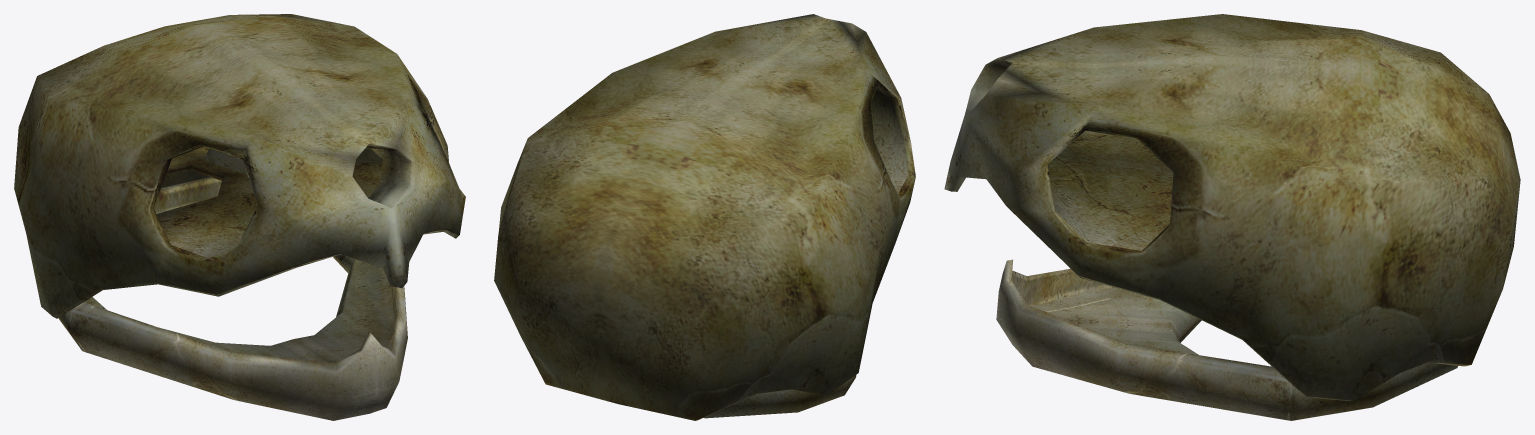
The model's file is bone_turtle_head00.fbx.
The picture shows the model from 3 angles, left to right: view 1: azimuth 30°, elevation 25°; view 2: azimuth 150°, elevation 25°; view 3: azimuth 270°, elevation 25°; orthographic projection. The views are drawn at different scales.
Visible parts, largest first — view 1: bone_turtle_head00; view 2: bone_turtle_head00; view 3: bone_turtle_head00.
Boxes of the visible parts, box(x1,y1,x2,y2) form: bone_turtle_head00: box(14, 14, 465, 420); bone_turtle_head00: box(494, 14, 915, 420); bone_turtle_head00: box(944, 14, 1520, 420).
Bounding box in the file's own units: 2.09 × 1.52 × 2.6.
